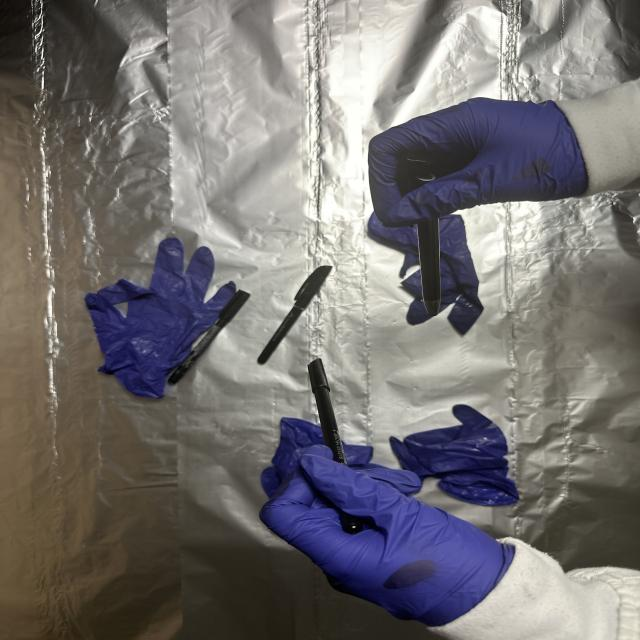gloves_contaminated: (261, 453, 514, 622), (369, 98, 590, 226)
